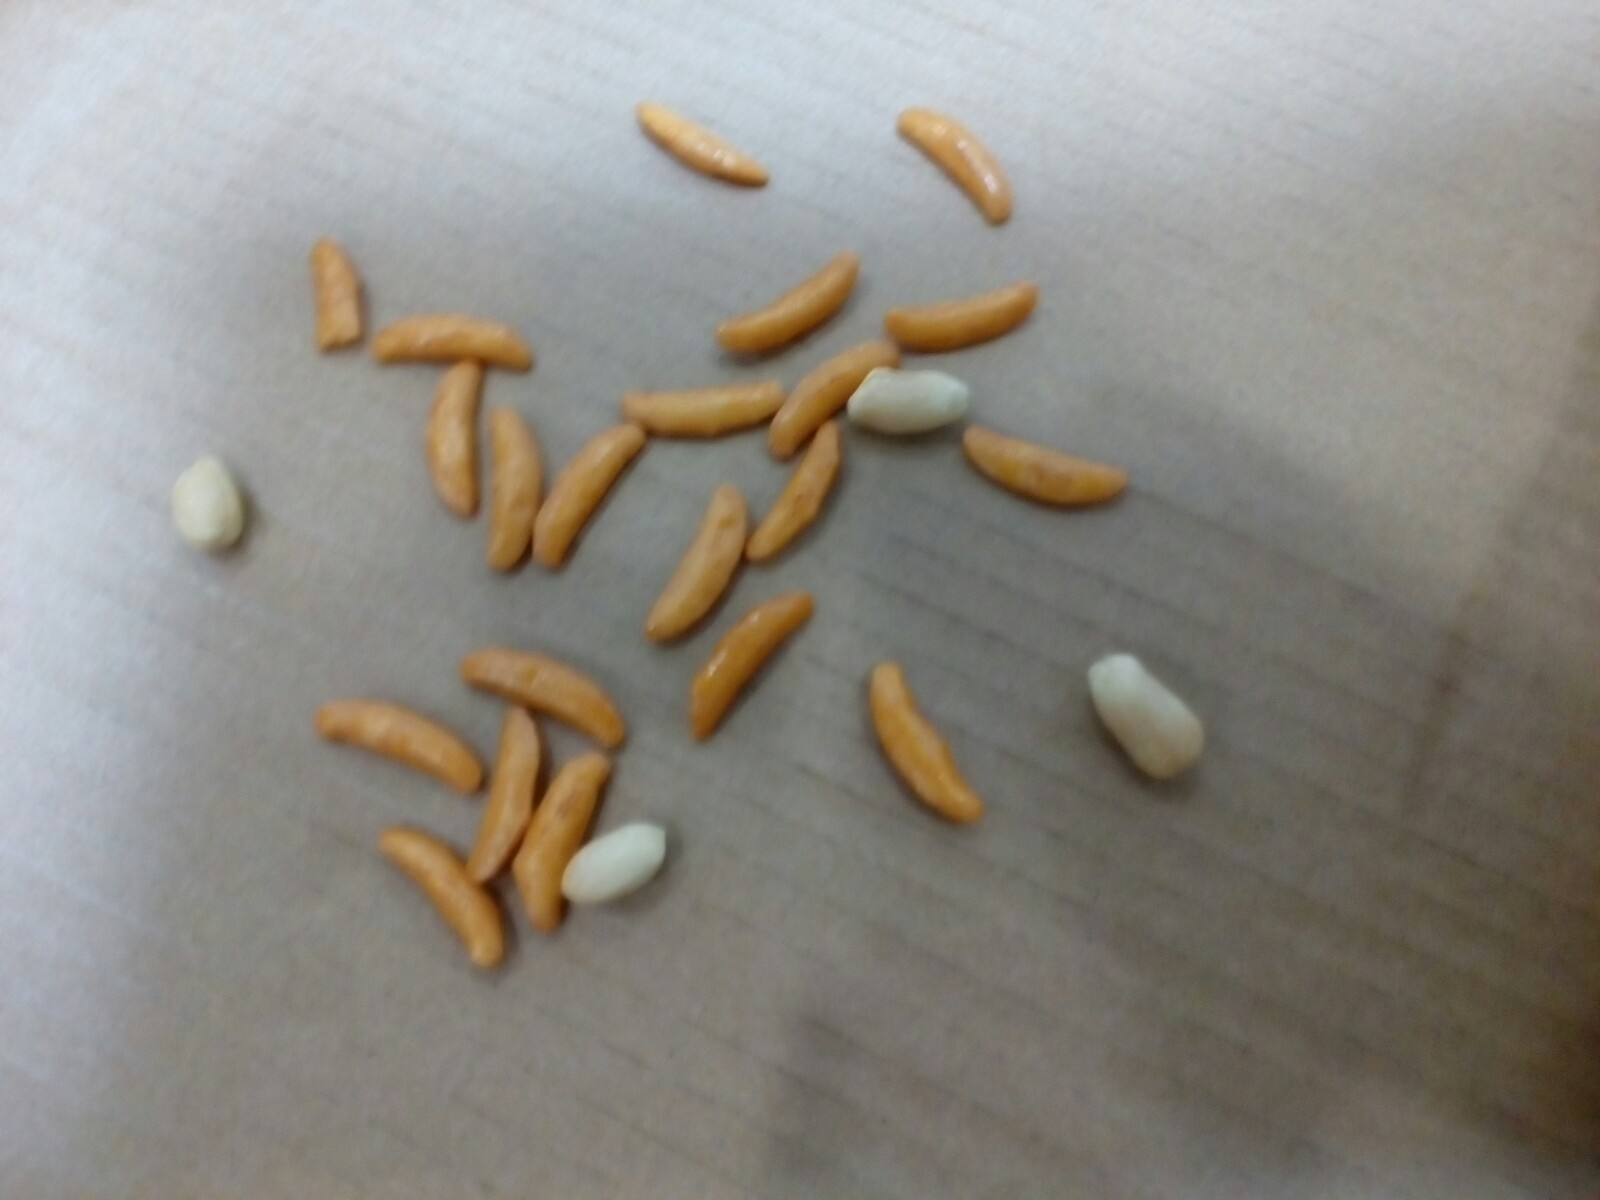peanut: (1081, 639, 1211, 787), (838, 358, 989, 444), (557, 816, 673, 909), (163, 447, 257, 555)
